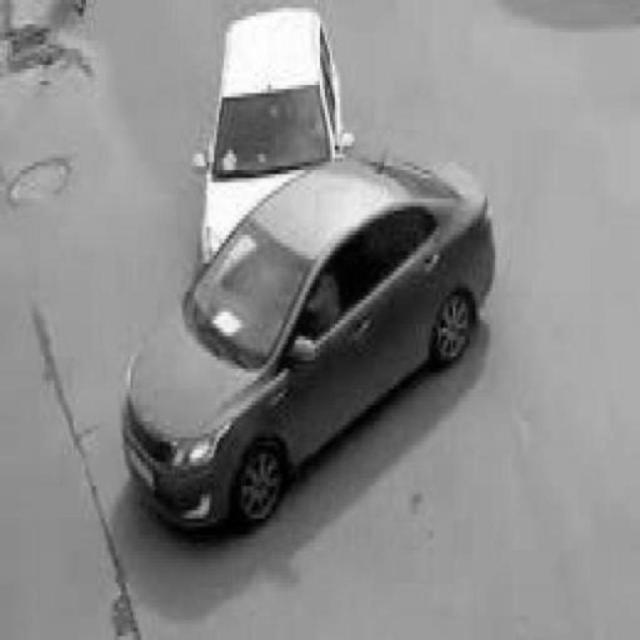accident: (125, 8, 499, 534)
